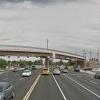Bridge: (3, 31, 81, 64)
